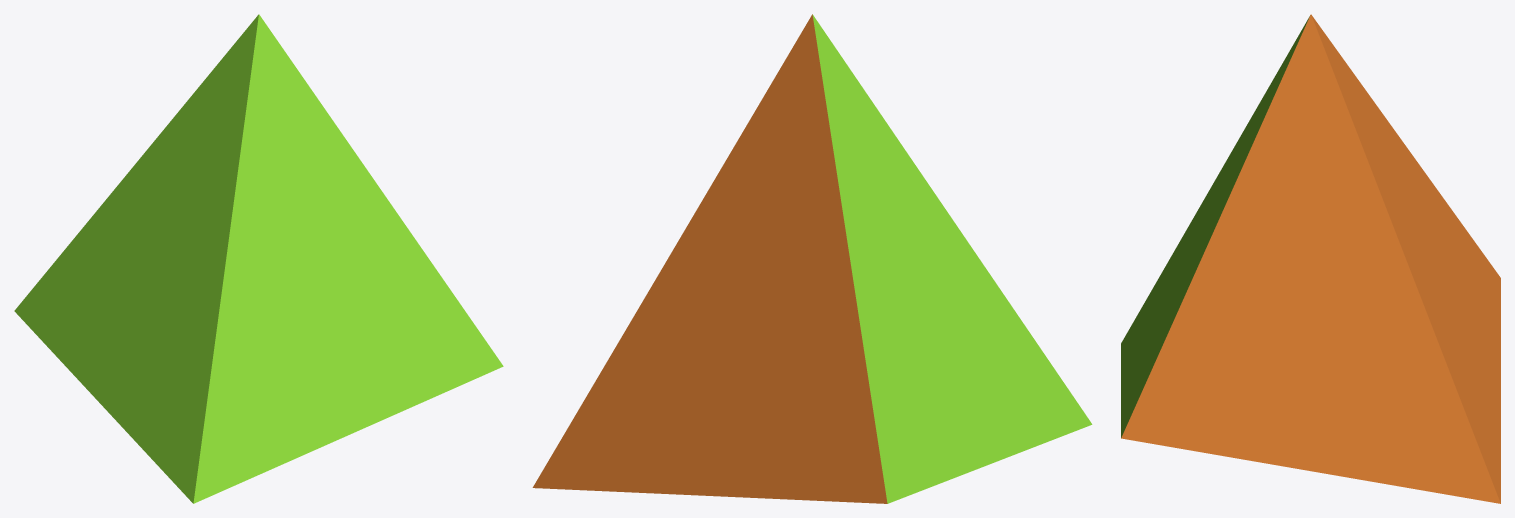
The model's file is piramid.fbx.
3 renders of one model, left to right at view 1: azimuth 30°, elevation 25°; view 2: azimuth 150°, elevation 25°; view 3: azimuth 270°, elevation 25°, orthographic. The views are drawn at different scales.
Parts seen in each view (by area): view 1: Cube; view 2: Cube; view 3: Cube.
Part boxes in pixels (left/top/right/bottom): Cube: left=14, top=14, right=503, bottom=503; Cube: left=532, top=14, right=1092, bottom=503; Cube: left=1121, top=14, right=1500, bottom=503.
Size of the model in its own units: 815 by 970 by 815.
